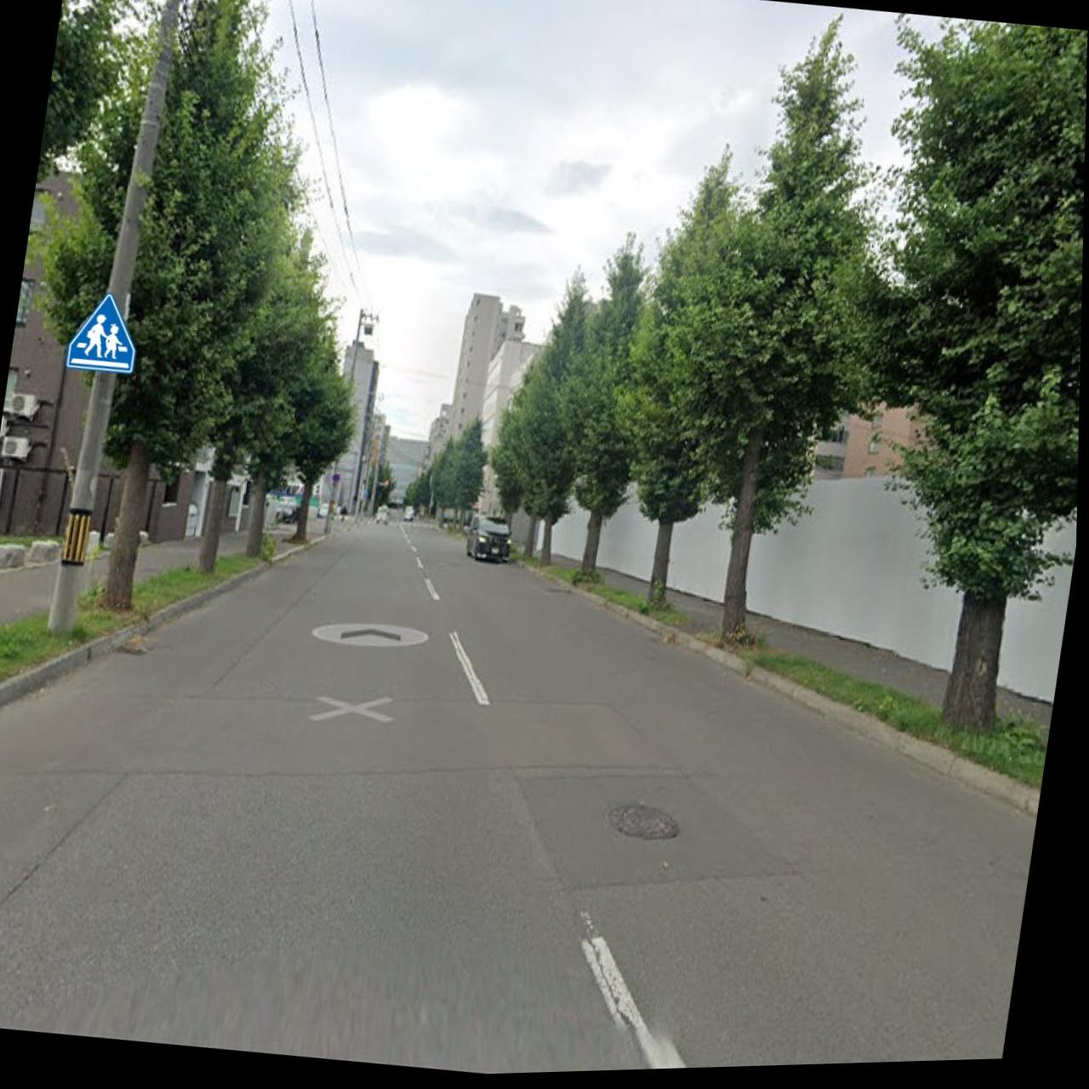cone: (72, 120, 144, 465)
